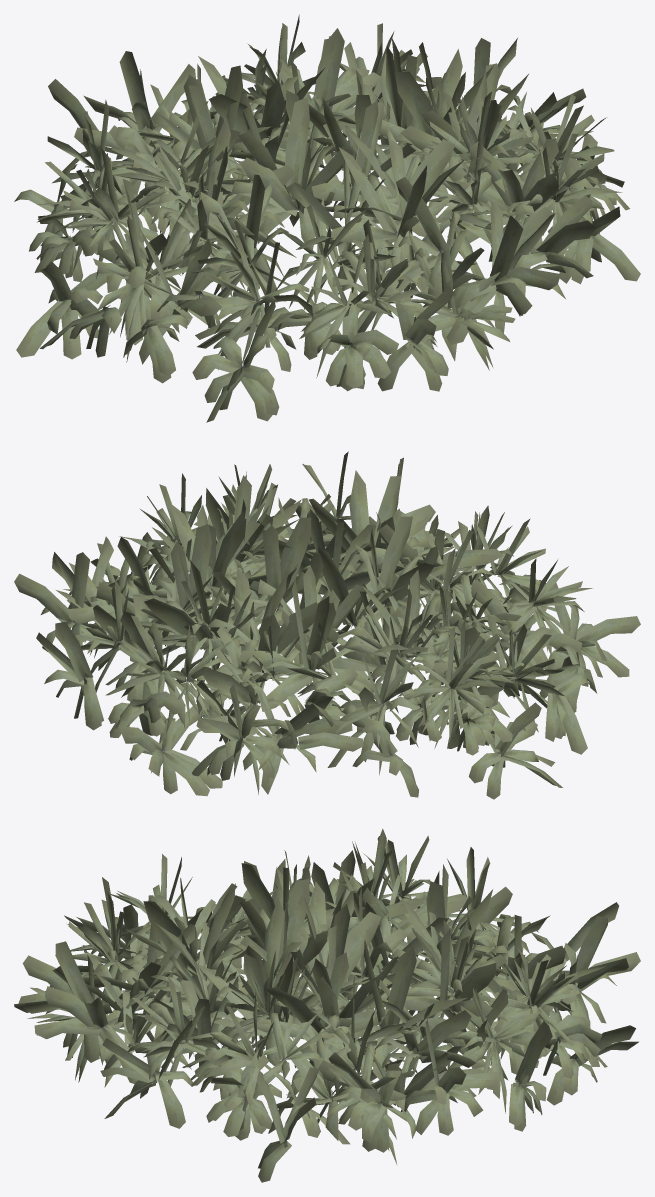
The model's file is MESH_AF08_DracaenaDraco_A_LOD2.fbx.
3 renders of one model, top to bottom at view 1: azimuth 30°, elevation 25°; view 2: azimuth 150°, elevation 25°; view 3: azimuth 270°, elevation 25°, orthographic. The views are drawn at different scales.
Visible parts, largest first — view 1: MI_LOD2_001; view 2: MI_LOD2_001; view 3: MI_LOD2_001.
Boxes of the visible parts, left/top/right/bottom form: MI_LOD2_001: left=14, top=14, right=640, bottom=422; MI_LOD2_001: left=14, top=451, right=640, bottom=799; MI_LOD2_001: left=14, top=828, right=640, bottom=1182.
Size of what is drawn, in the model's own units: 1073 by 388 by 1083.
